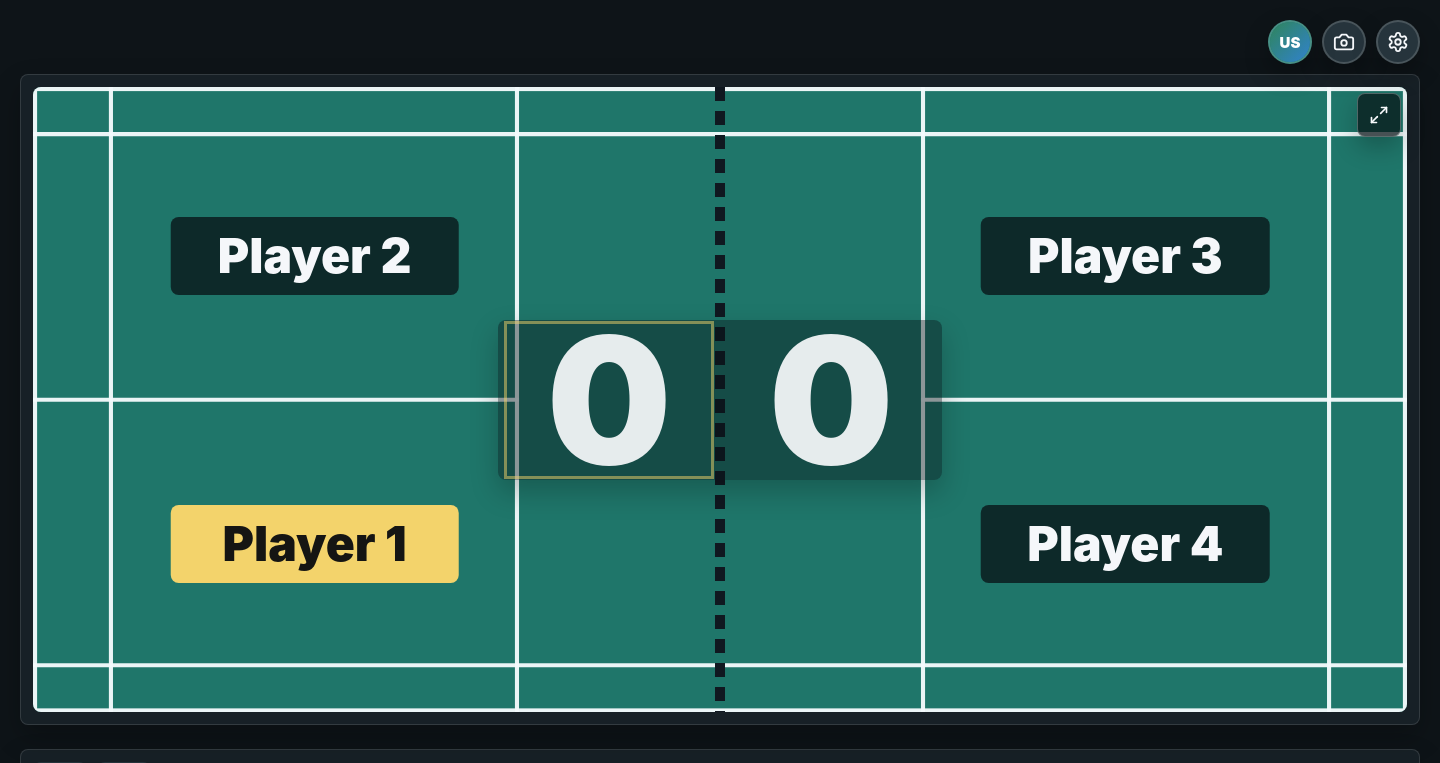
it: App › starts session setup from the app settings menu
Click the button named "settings menu" at (1398, 42), box [1376,20,1420,64]
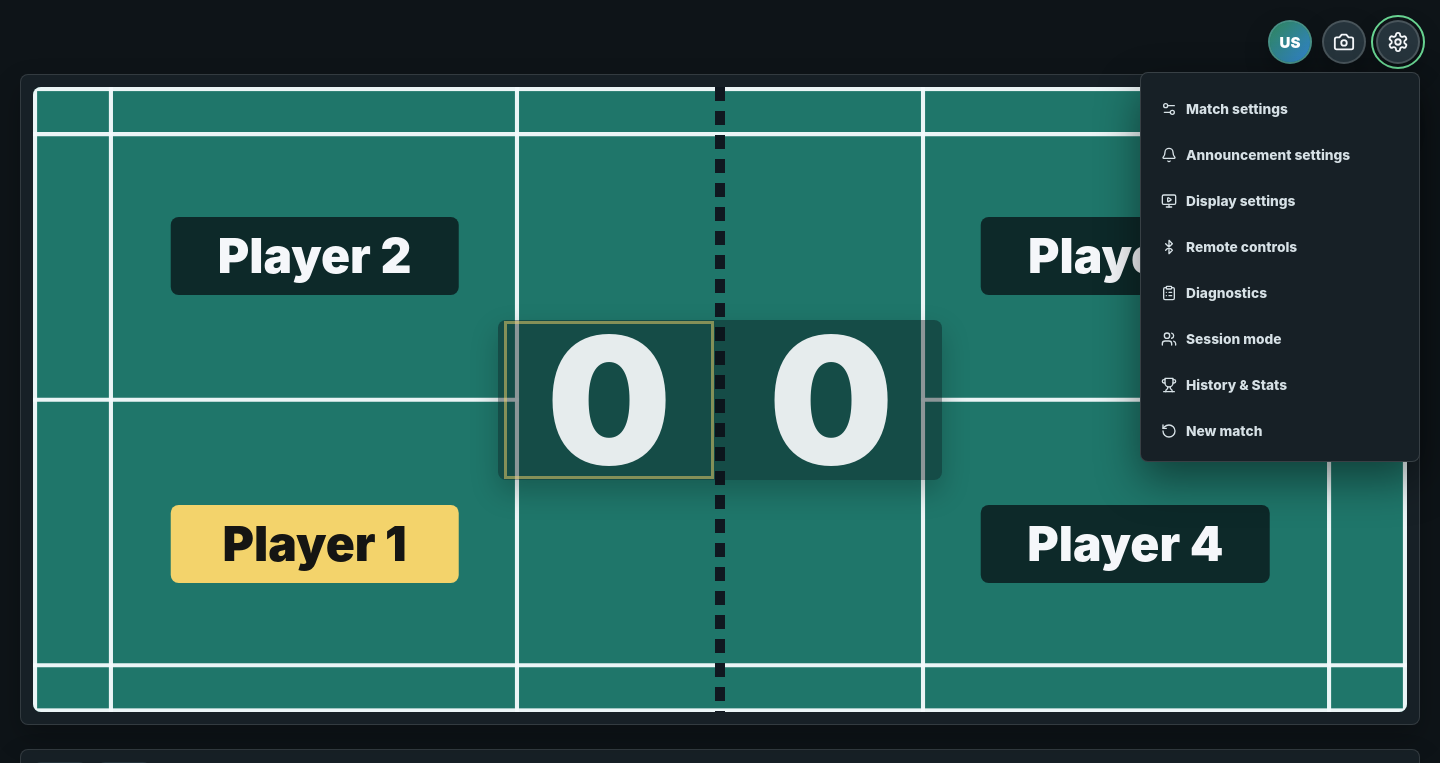
Click the menu item "Session mode" at (1280, 339), box [1151,319,1409,359]
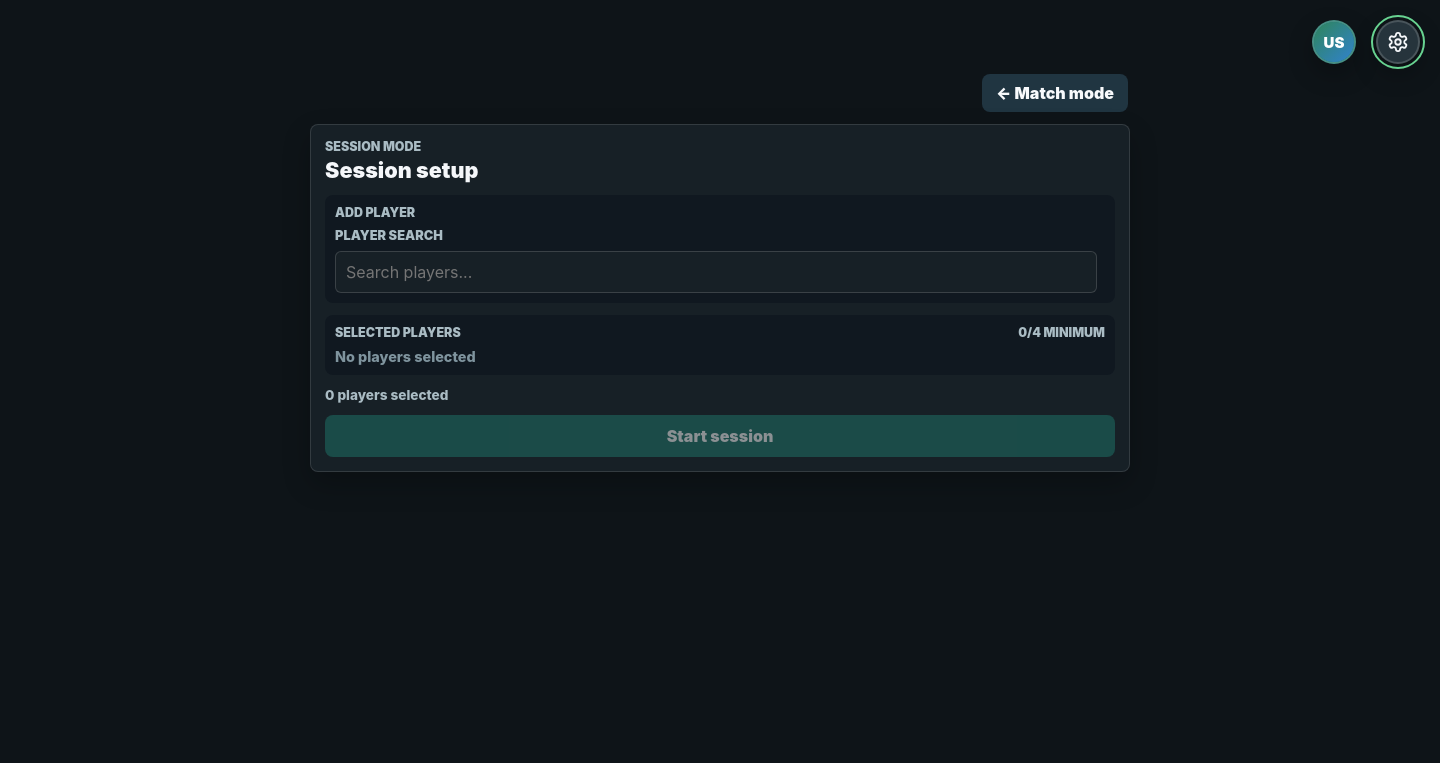
Expected: the heading "Session setup" is shown, [325,157,478,183]
